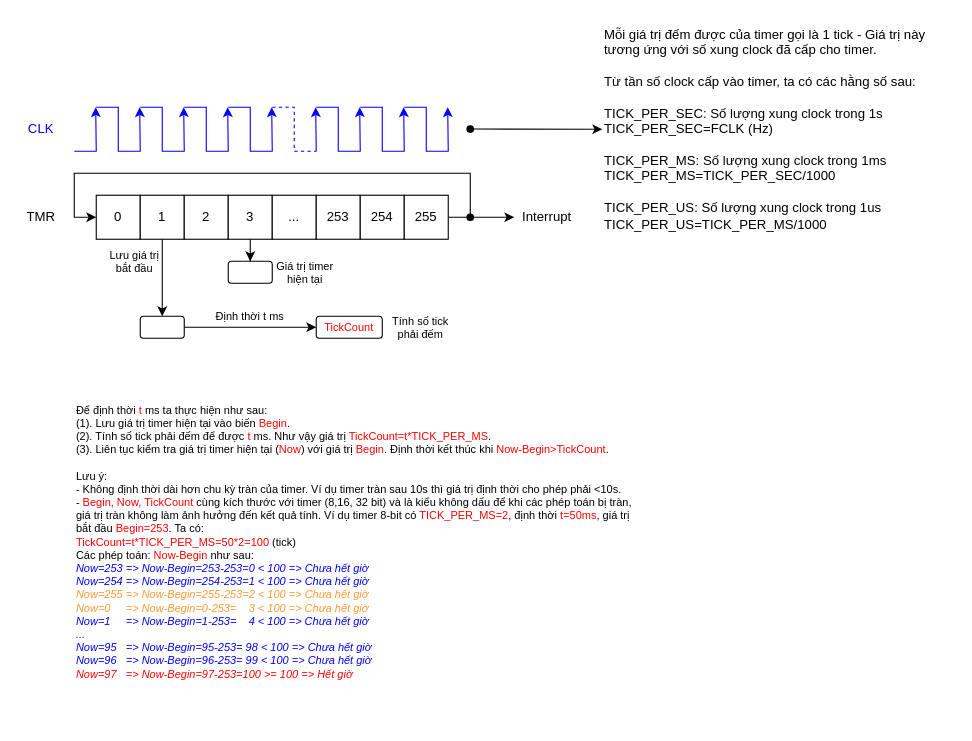
The diagram is 972 pixels wide and 741 high, and some of its shapes have lost their labels. The shapes that lost their labels are listed below. From the top down, each one's box as (x1, y1, x2, y2) in pixels, then its label:
(227, 260, 272, 283): Now
(139, 315, 184, 338): Begin
